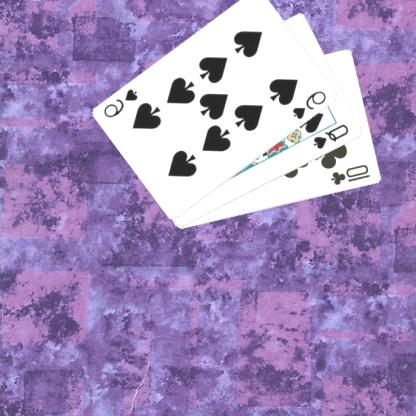10C: (330, 162, 373, 187)
9S: (102, 86, 142, 120), (292, 88, 330, 121)
QS: (312, 121, 352, 151)
